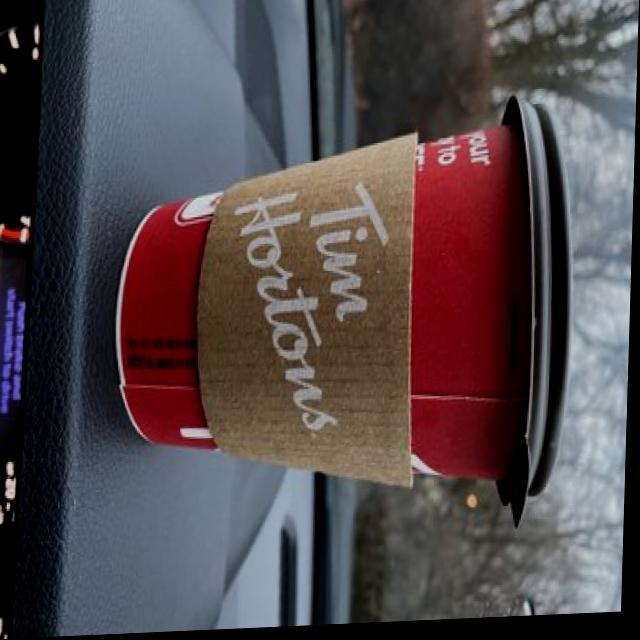timmies: (105, 92, 582, 550)
